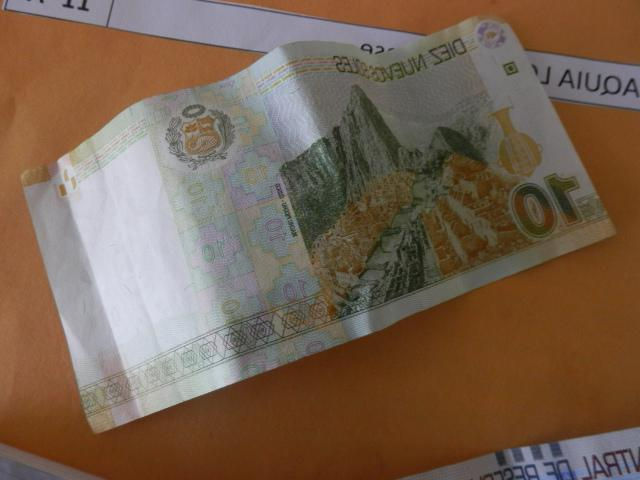B10: (25, 18, 616, 434)
